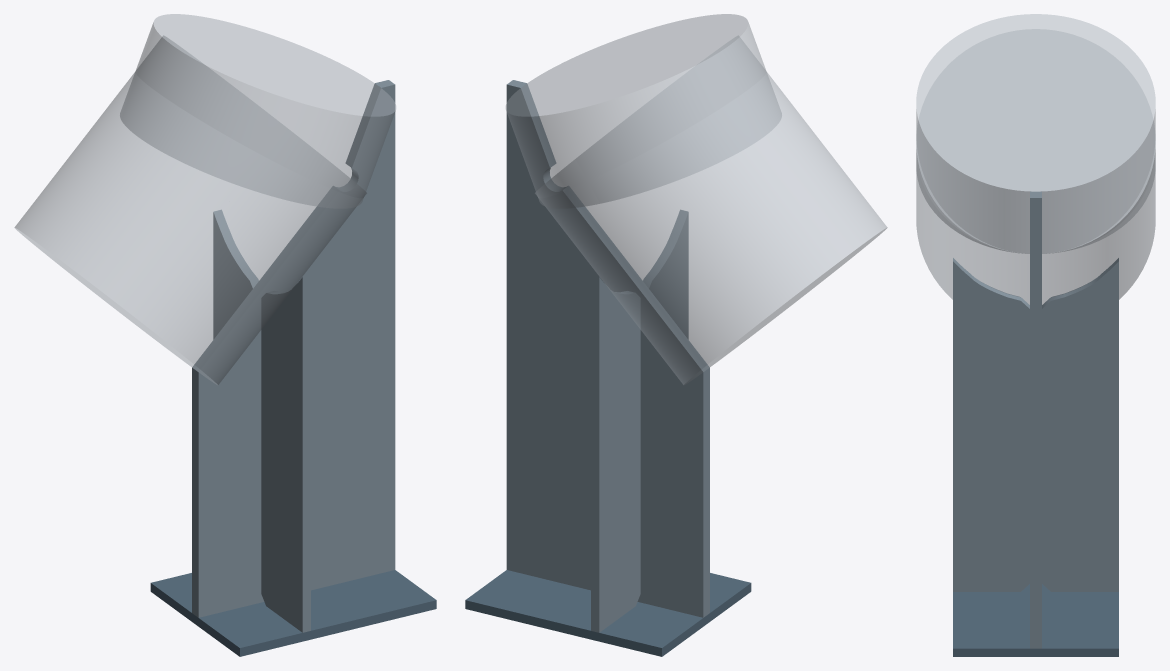
The model's file is TS-631.000-02-opora-dn159-R330.glb.
3 views of the same model, side by side, from view 1: azimuth 30°, elevation 25°; view 2: azimuth 150°, elevation 25°; view 3: azimuth 270°, elevation 25° (orthographic). The views are drawn at different scales.
Visible parts, largest first — view 1: truba_1, kosynka_1, truba_0, rebro_3, osnovanie_0, rebro_2; view 2: truba_1, kosynka_1, truba_0, rebro_2, osnovanie_0, rebro_3; view 3: truba_1, truba_0, rebro_2, rebro_3, osnovanie_0, kosynka_1.
Part boxes in pixels (<box>): truba_1: <box>14,36,366,384</box>; kosynka_1: <box>192,80,395,617</box>; truba_0: <box>120,14,396,208</box>; rebro_3: <box>261,275,310,632</box>; osnovanie_0: <box>150,570,436,656</box>; rebro_2: <box>213,209,258,339</box>; truba_1: <box>535,36,887,384</box>; kosynka_1: <box>506,80,709,617</box>; truba_0: <box>505,14,781,208</box>; rebro_2: <box>591,275,640,632</box>; osnovanie_0: <box>465,570,751,656</box>; rebro_3: <box>643,209,688,339</box>; truba_1: <box>916,29,1155,304</box>; truba_0: <box>916,14,1155,253</box>; rebro_2: <box>1042,258,1118,591</box>; rebro_3: <box>953,258,1029,591</box>; osnovanie_0: <box>953,584,1118,656</box>; kosynka_1: <box>1030,191,1041,648</box>.
Size of the model in its own units: 252 by 398 by 159.
